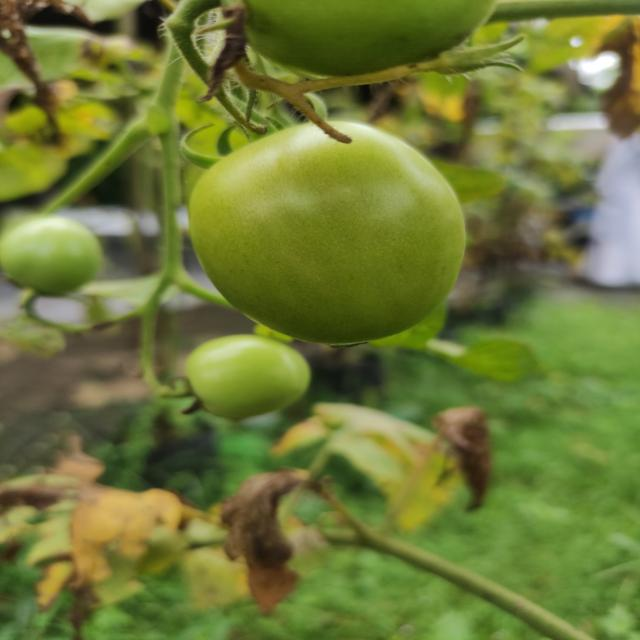unripe tomato: (187, 118, 467, 347), (183, 336, 312, 424), (0, 215, 103, 298)
